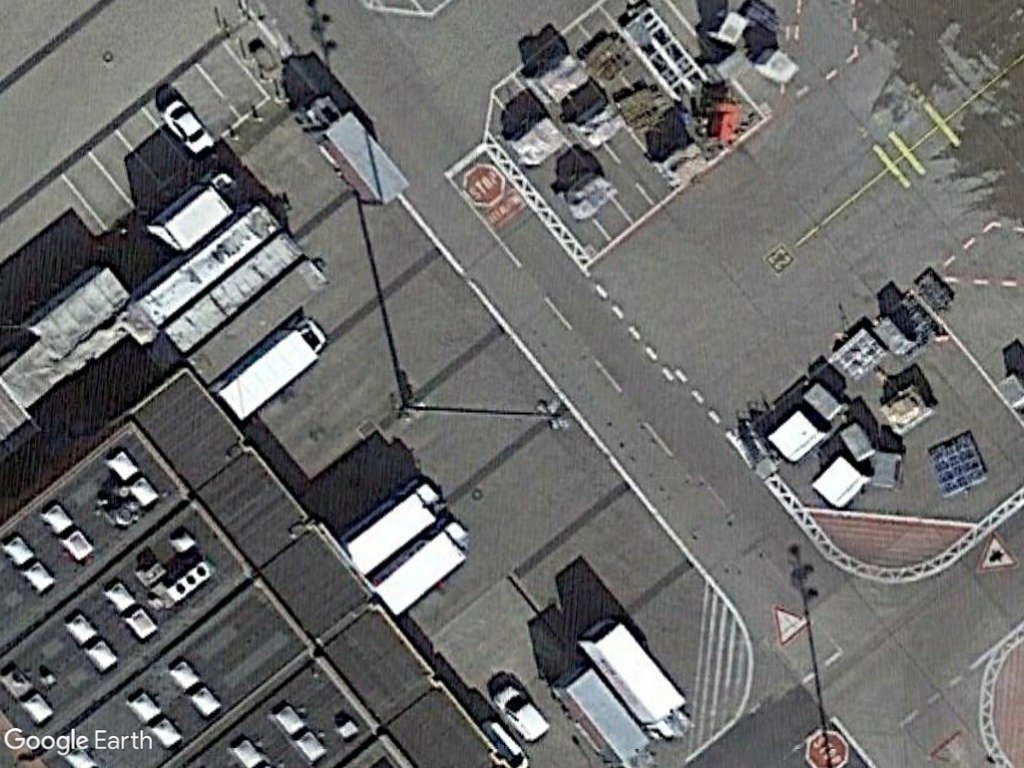car: (159, 96, 218, 162)
truck: (578, 613, 697, 743), (208, 313, 338, 424), (297, 92, 413, 215), (337, 482, 455, 580), (369, 512, 474, 621)
van: (488, 681, 554, 743)
